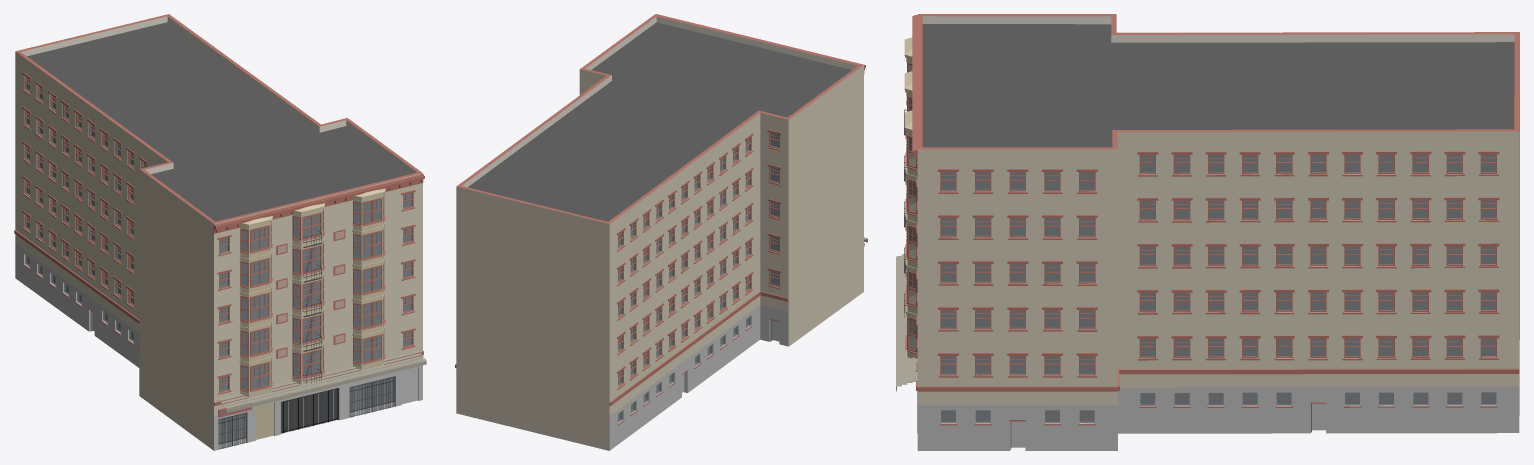
Rendered from exterior.glb.
3 renders of one model, left to right at view 1: azimuth 30°, elevation 25°; view 2: azimuth 150°, elevation 25°; view 3: azimuth 270°, elevation 25°, orthographic. The views are drawn at different scales.
Parts seen in each view (by area): view 1: shell, roof, bay-glazing-hyb, shadow-proxy, bay-windows-hyb, trim, glazing, storefront, frames, awning-spans-0, hand-ornament, awning-valance-0 (+1 smaller); view 2: shell, roof, trim, glazing, frames, shadow-proxy; view 3: shell, roof, glazing, shadow-proxy, trim, frames, bay-glazing-hyb, bay-windows-hyb, awning-spans-0.
Boxes of the visible parts, box(x1,y1,x2,y2) form: shell: box(15, 14, 422, 450); roof: box(27, 22, 410, 221); bay-glazing-hyb: box(240, 194, 385, 392); shadow-proxy: box(27, 78, 411, 443); bay-windows-hyb: box(239, 188, 385, 399); trim: box(14, 72, 424, 405); glazing: box(25, 76, 412, 443); storefront: box(88, 308, 417, 449); frames: box(24, 75, 413, 392); awning-spans-0: box(218, 350, 426, 408); hand-ornament: box(276, 229, 345, 358); awning-valance-0: box(226, 360, 426, 413); shell: box(456, 14, 863, 450); roof: box(468, 22, 852, 221); trim: box(455, 14, 865, 425); glazing: box(618, 132, 779, 422); frames: box(618, 132, 779, 387); shadow-proxy: box(618, 133, 779, 420); shell: box(917, 14, 1519, 450); roof: box(922, 24, 1514, 147); glazing: box(941, 154, 1496, 422); shadow-proxy: box(941, 155, 1495, 447); trim: box(912, 15, 1519, 425); frames: box(940, 154, 1496, 375); bay-glazing-hyb: box(905, 58, 917, 353); bay-windows-hyb: box(904, 37, 917, 358); awning-spans-0: box(896, 254, 917, 389).
Bounding box in the file's own units: 21.52 × 22.22 × 41.65.
